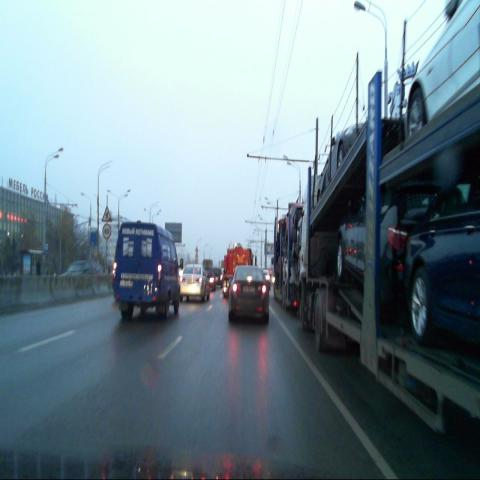1_25: (102, 205, 112, 222)
3_24: (102, 223, 111, 238)
